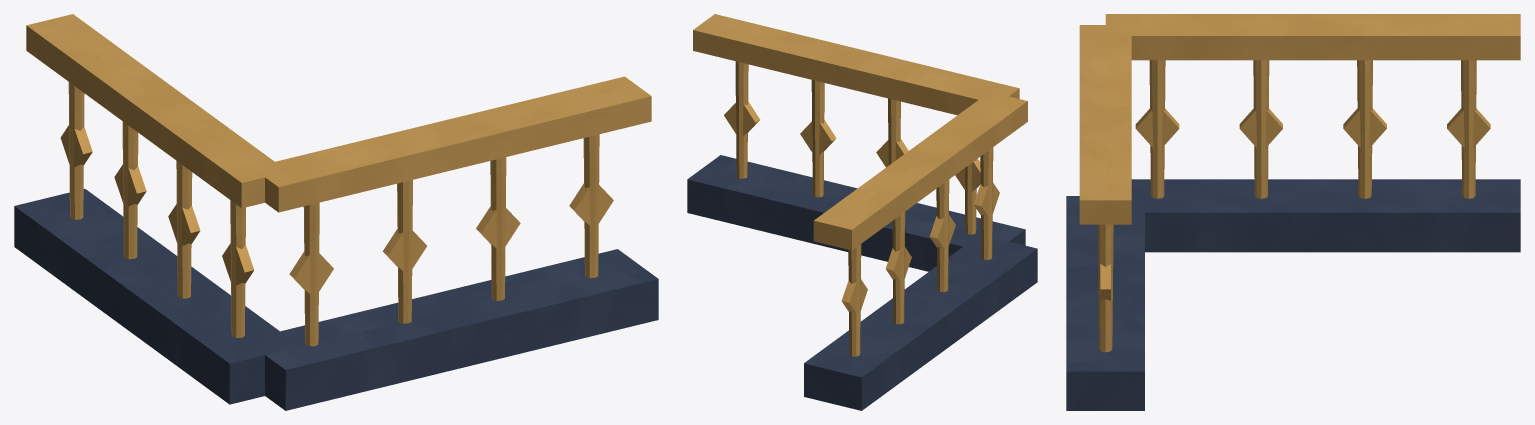
File: SM_Theater_Rail_Corner2.fbx
3 renders of one model, left to right at view 1: azimuth 30°, elevation 25°; view 2: azimuth 150°, elevation 25°; view 3: azimuth 270°, elevation 25°, orthographic. The views are drawn at different scales.
Visible parts, largest first — view 1: SM_Theater_Rail_Corner2_LOD0; view 2: SM_Theater_Rail_Corner2_LOD0; view 3: SM_Theater_Rail_Corner2_LOD0.
Boxes of the visible parts, x1=… form: SM_Theater_Rail_Corner2_LOD0: x1=14, y1=14, x2=658, y2=410; SM_Theater_Rail_Corner2_LOD0: x1=687, y1=14, x2=1037, y2=410; SM_Theater_Rail_Corner2_LOD0: x1=1066, y1=14, x2=1520, y2=410.
Size of what is drawn, in the model's own units: 2.19 by 1.12 by 2.19.
